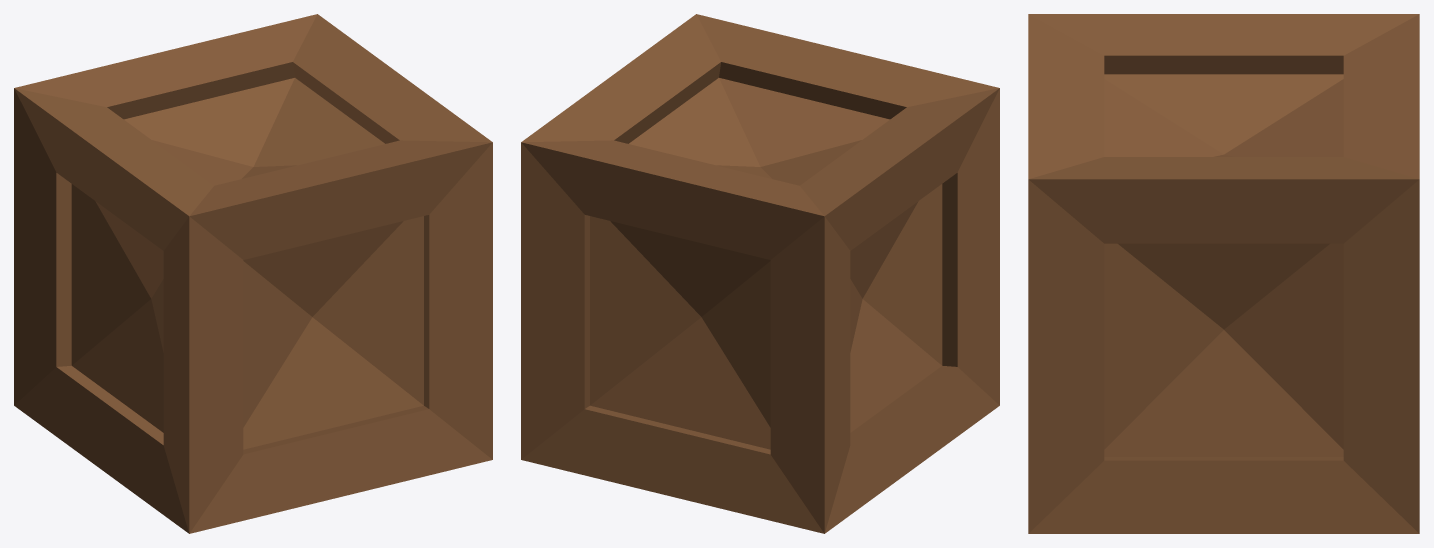
The model's file is crateCube.glb.
3 renders of one model, left to right at view 1: azimuth 30°, elevation 25°; view 2: azimuth 150°, elevation 25°; view 3: azimuth 270°, elevation 25°, orthographic. The views are drawn at different scales.
Parts seen in each view (by area): view 1: crateCube; view 2: crateCube; view 3: crateCube.
Part boxes in pixels (<box>): crateCube: <box>14,14,492,533</box>; crateCube: <box>521,14,999,533</box>; crateCube: <box>1028,14,1419,533</box>.
Size of the model in its own units: 0.7 by 0.7 by 0.7.
